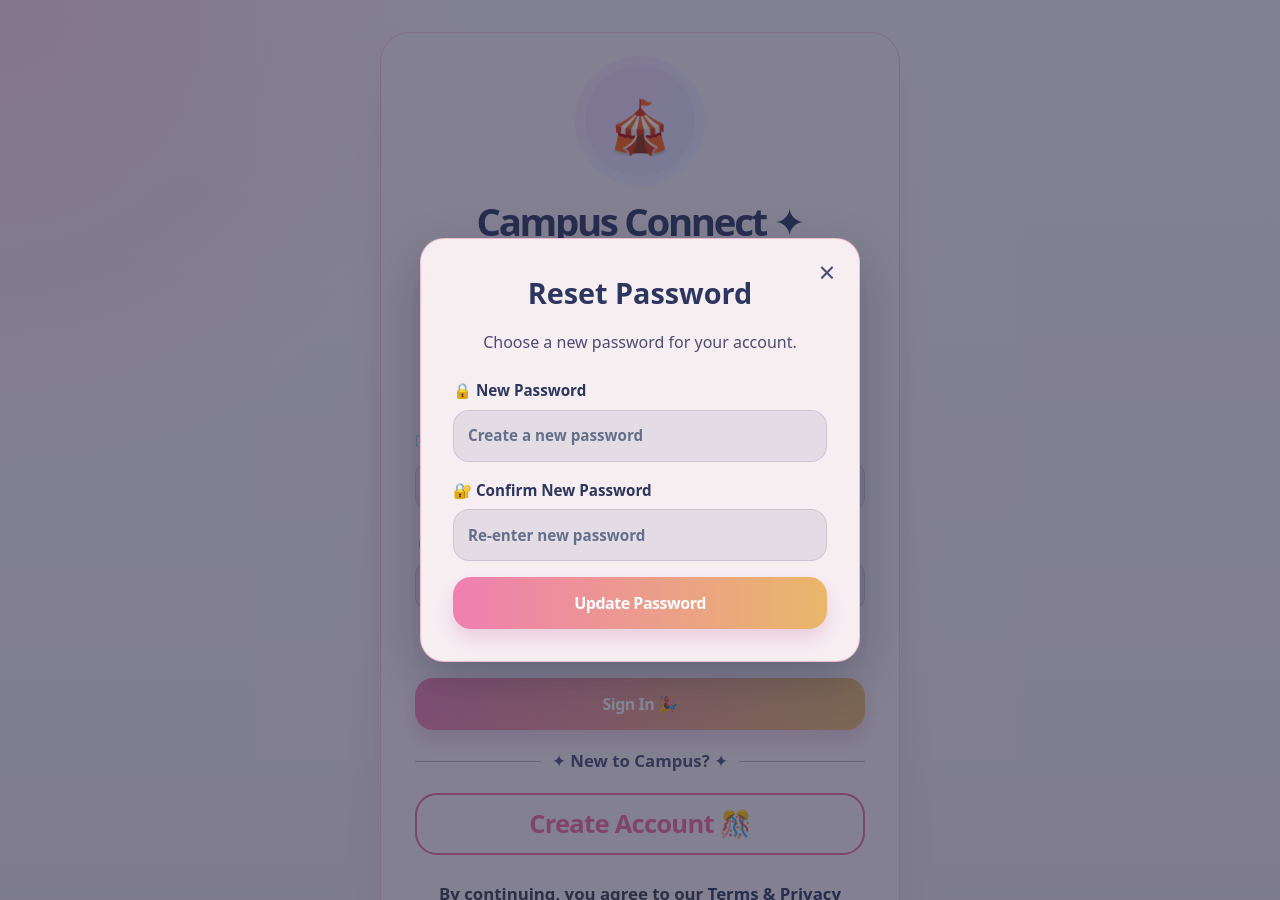
LoginPage › submits a new password from the email-link popup
The image size is (1280, 900).
Check: the dialog is shown, box [420,238,860,662]
In the password field labelled "New Password": (640, 436) [468,424,812,447], type "NewPassword1"
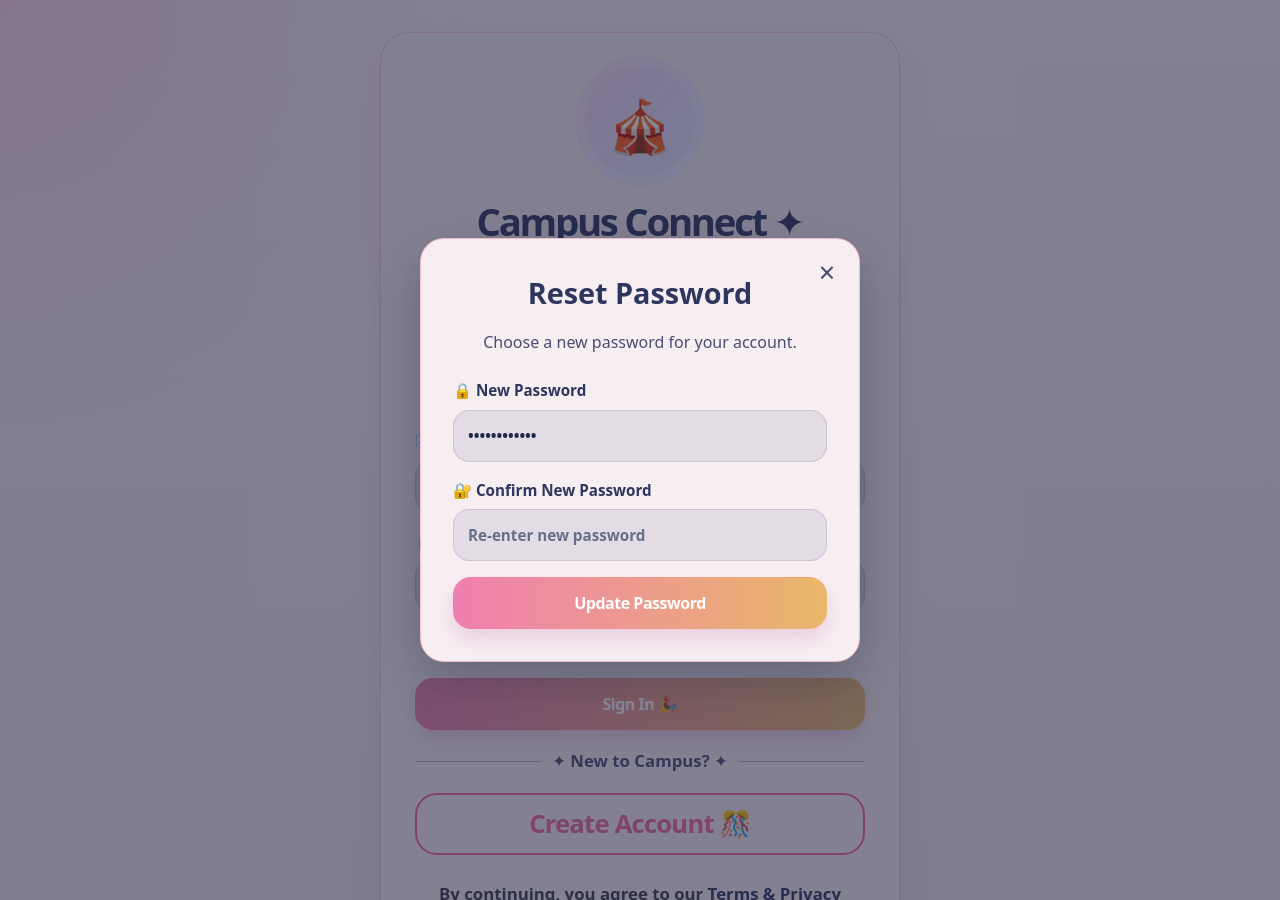
In the password field labelled "Confirm New Password": (640, 535) [468,524,812,547], type "NewPassword1"
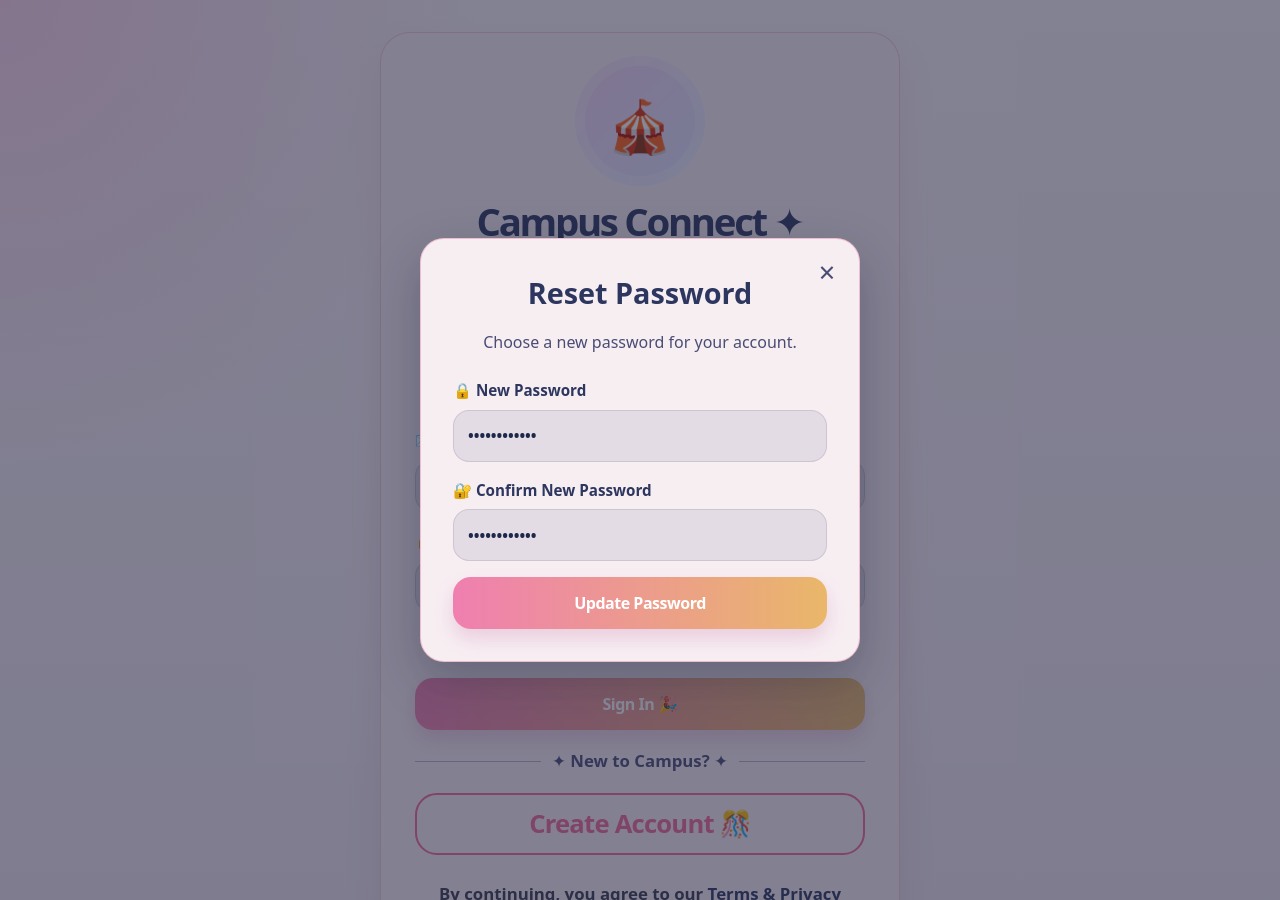
Click the button "Update Password": (640, 603) [453,577,827,629]
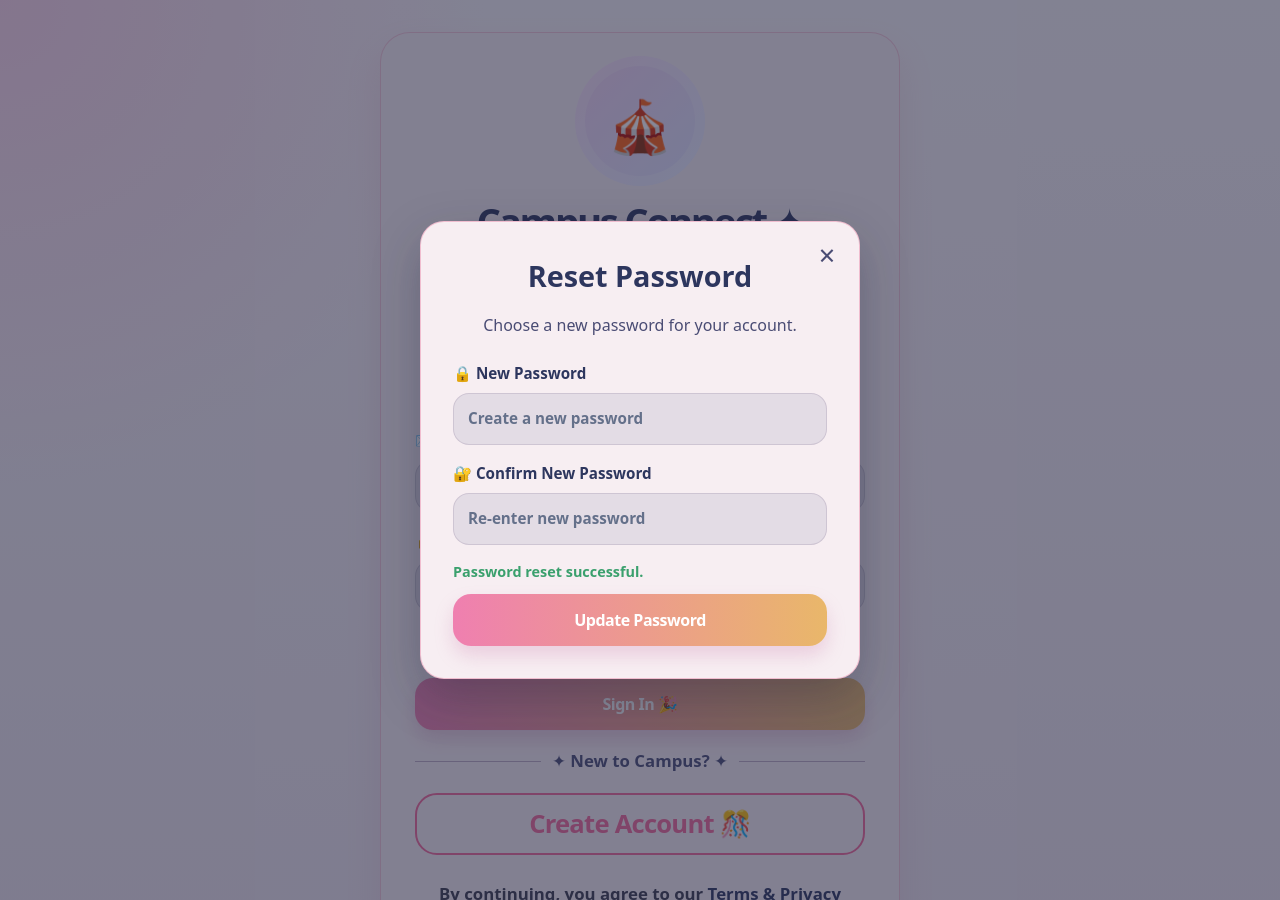
Check: the text "Password reset successful." is shown, box [453,562,644,581]
